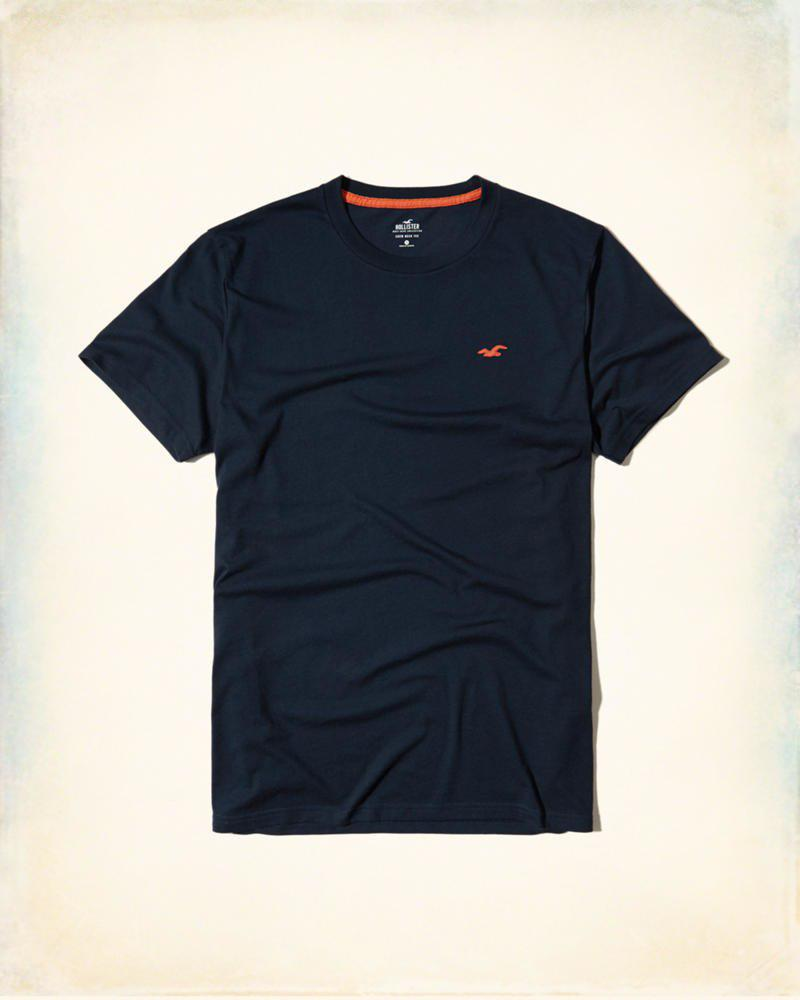teeshirt: (88, 162, 735, 837)
